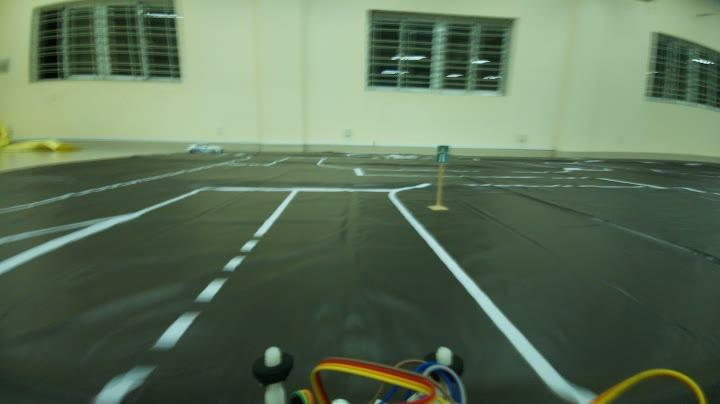highway_entry: (433, 144, 448, 169)
